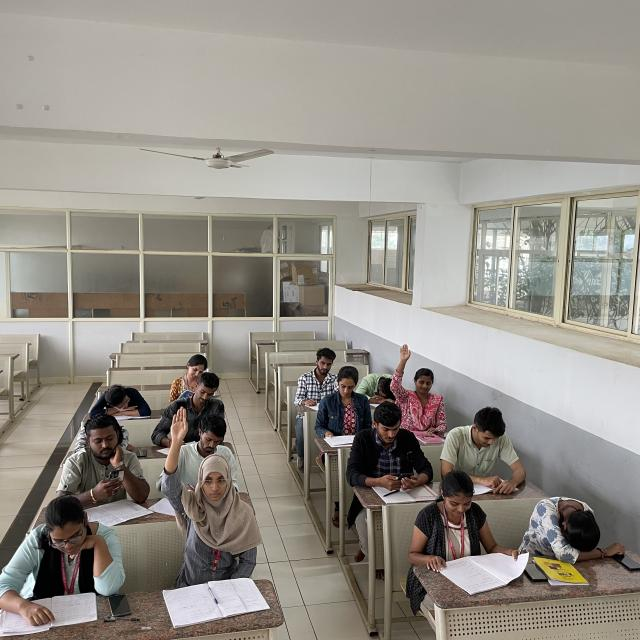Hand Rising: (155, 403, 258, 564), (394, 343, 444, 428)
Reading: (0, 498, 102, 629), (416, 472, 514, 574), (441, 403, 532, 494), (321, 365, 376, 446), (166, 354, 221, 403)
Sleeping: (518, 494, 612, 554), (88, 382, 154, 421), (355, 362, 402, 399)
Using Phone: (69, 417, 147, 505), (354, 402, 433, 486)
